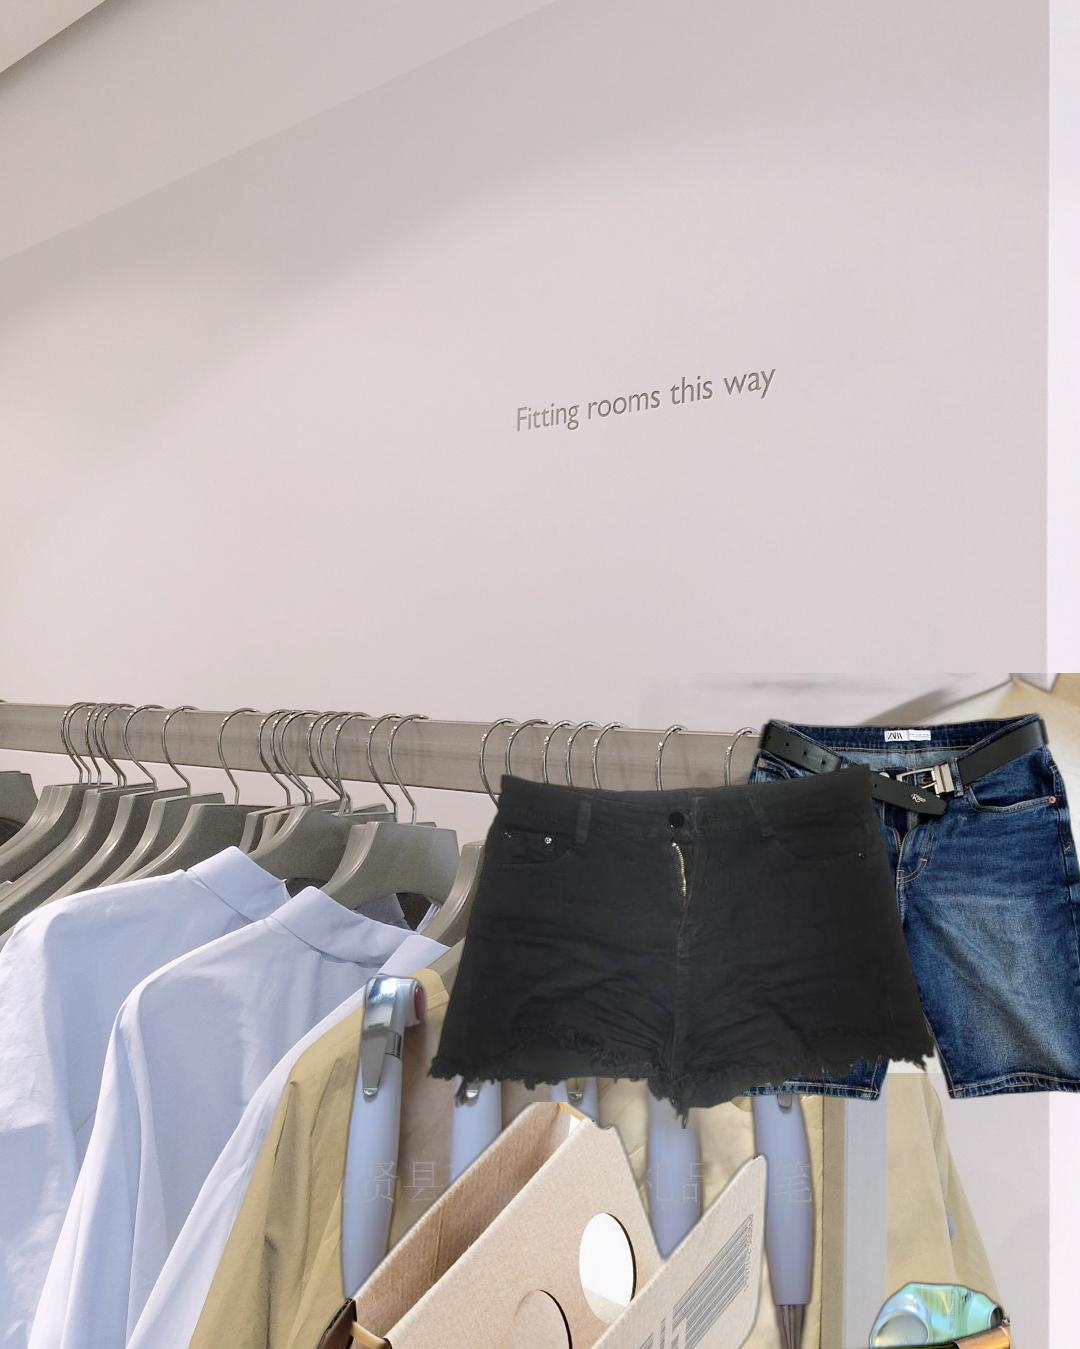clothes: (423, 760, 938, 1129), (711, 710, 1080, 1104)
glass: (512, 1309, 1009, 1349)
metal-cans: (864, 1276, 1011, 1349)
penholder: (335, 963, 905, 1349)
trashbox-cardboard: (639, 673, 1080, 1073), (264, 1102, 905, 1349)
